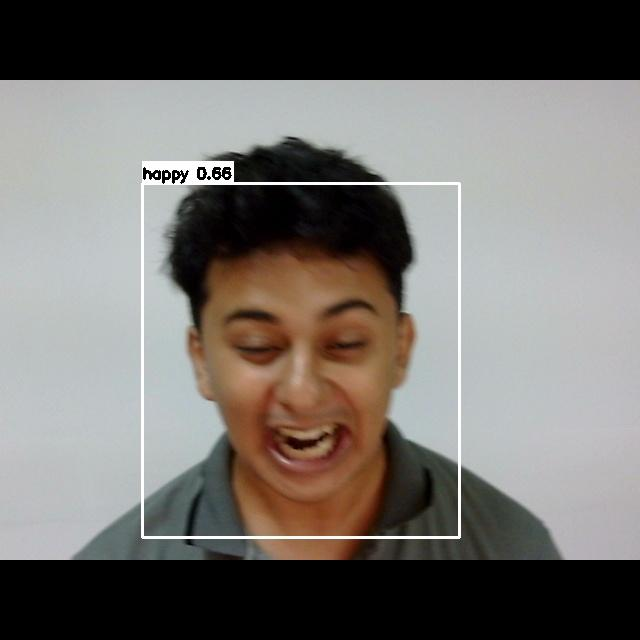Surprised: (212, 277, 404, 494)
